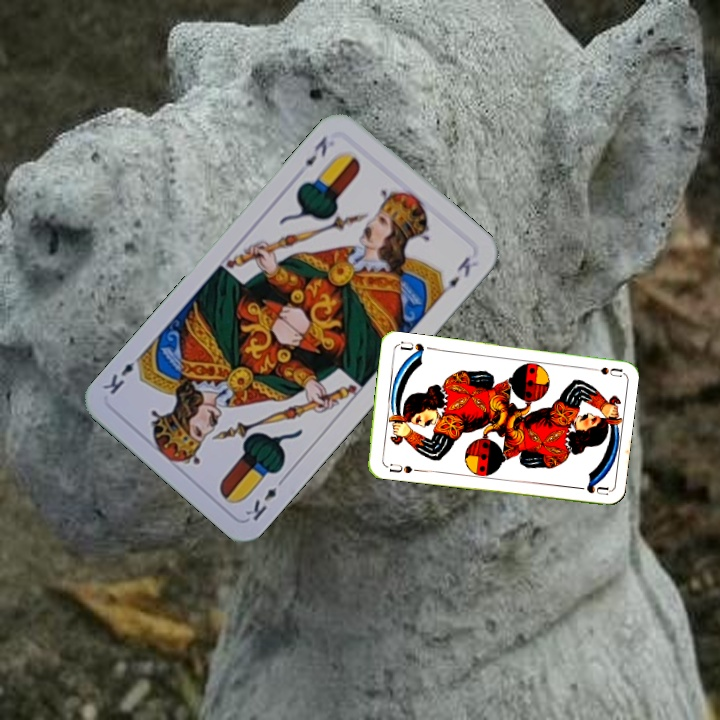EK: (241, 472, 289, 524), (300, 132, 330, 169)
SU: (583, 363, 623, 379), (385, 459, 415, 476)
